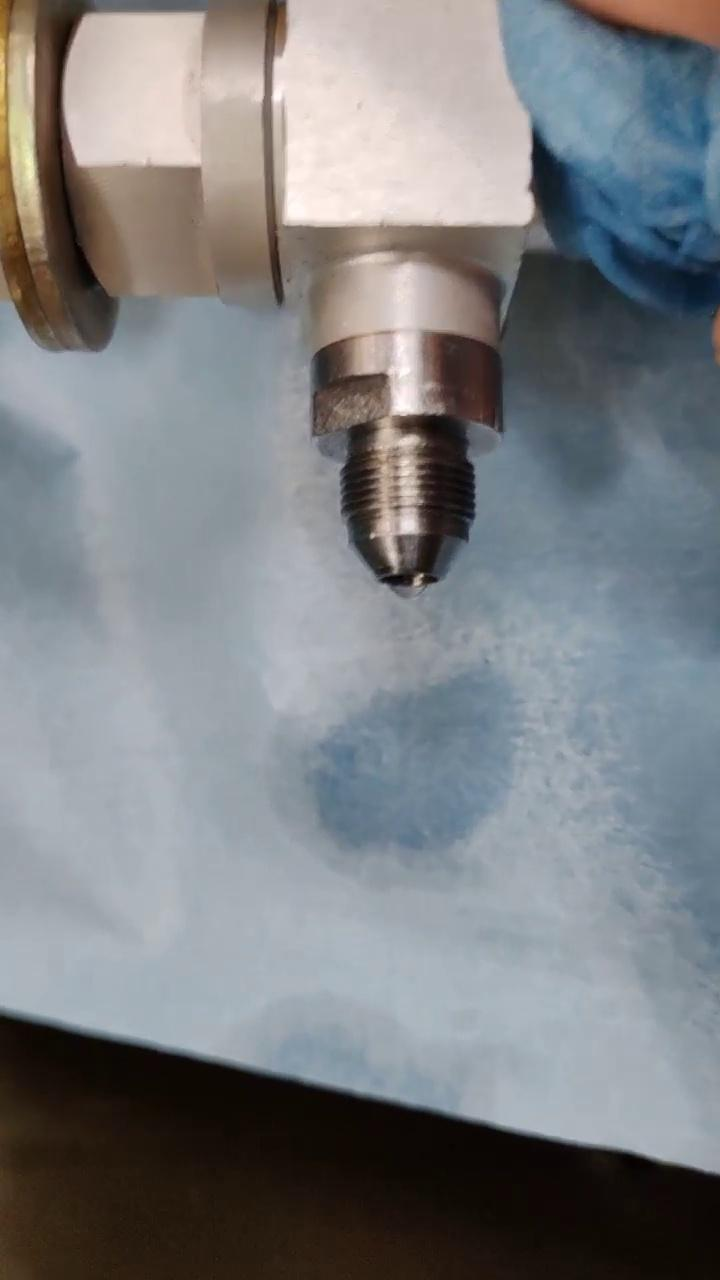water drop: (389, 576, 425, 599)
